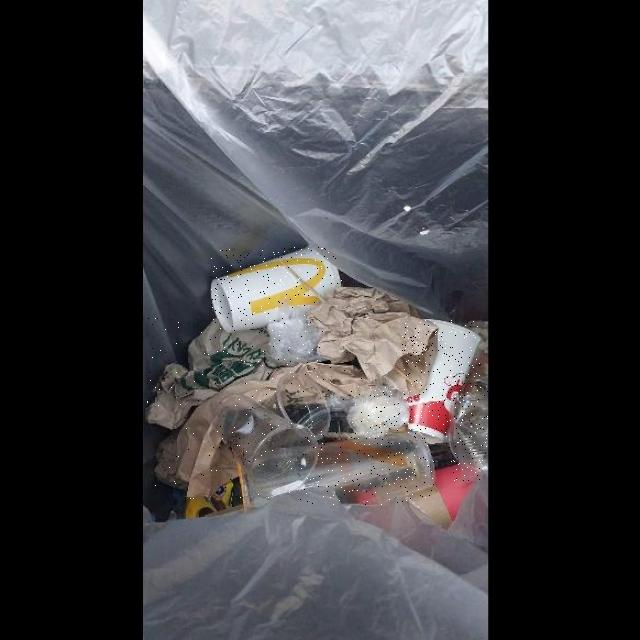paper: (154, 363, 367, 499), (309, 287, 439, 396), (146, 318, 270, 430), (211, 247, 342, 335), (403, 319, 481, 444)
plastic: (300, 431, 435, 505), (265, 298, 326, 370), (449, 390, 488, 483), (347, 388, 409, 439)
